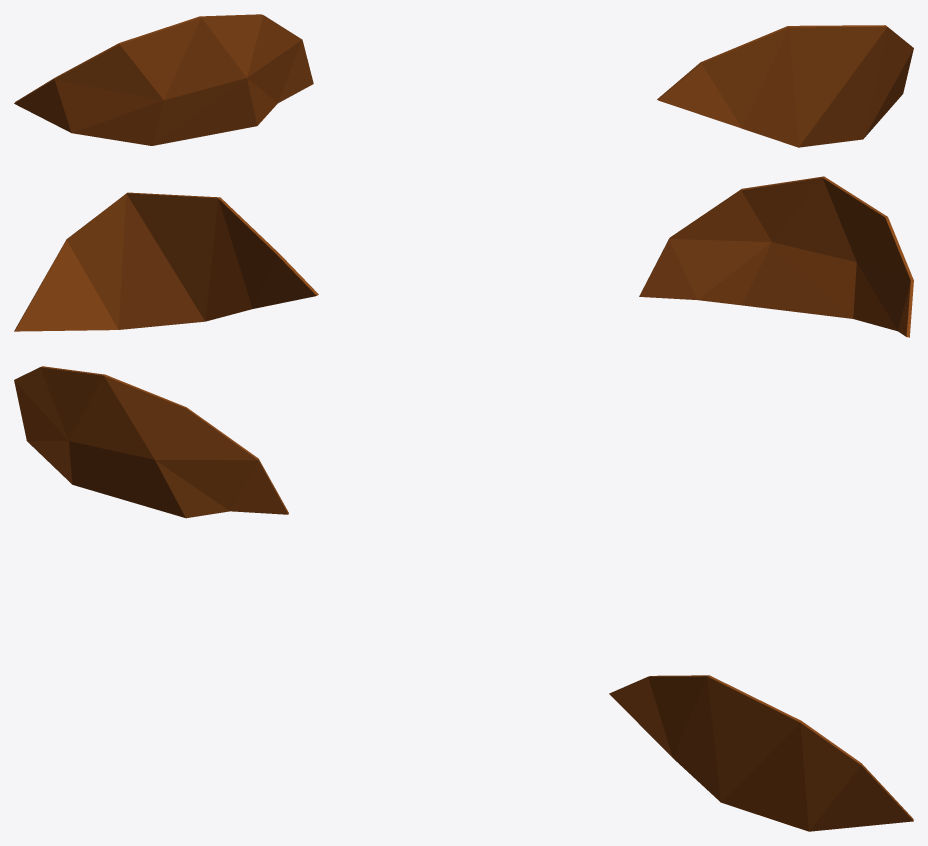
Rendered from eyes_brown.obj.
3 views of the same model, one above another, from view 1: azimuth 30°, elevation 25°; view 2: azimuth 150°, elevation 25°; view 3: azimuth 330°, elevation 25° (orthographic).
Parts seen in each view (by area): view 1: eyes_brown_eyes_brown_helios_20140908_Alexander_as_Helios_by_Cos; view 2: eyes_brown_eyes_brown_helios_20140908_Alexander_as_Helios_by_Cos; view 3: eyes_brown_eyes_brown_helios_20140908_Alexander_as_Helios_by_Cos.
Part boxes in pixels (x1,y1,x2,y2): eyes_brown_eyes_brown_helios_20140908_Alexander_as_Helios_by_Cos: (14,14,913,147); eyes_brown_eyes_brown_helios_20140908_Alexander_as_Helios_by_Cos: (14,176,913,337); eyes_brown_eyes_brown_helios_20140908_Alexander_as_Helios_by_Cos: (14,366,913,831).
Size of the model in its own units: 24.51 by 7.99 by 2.61.
